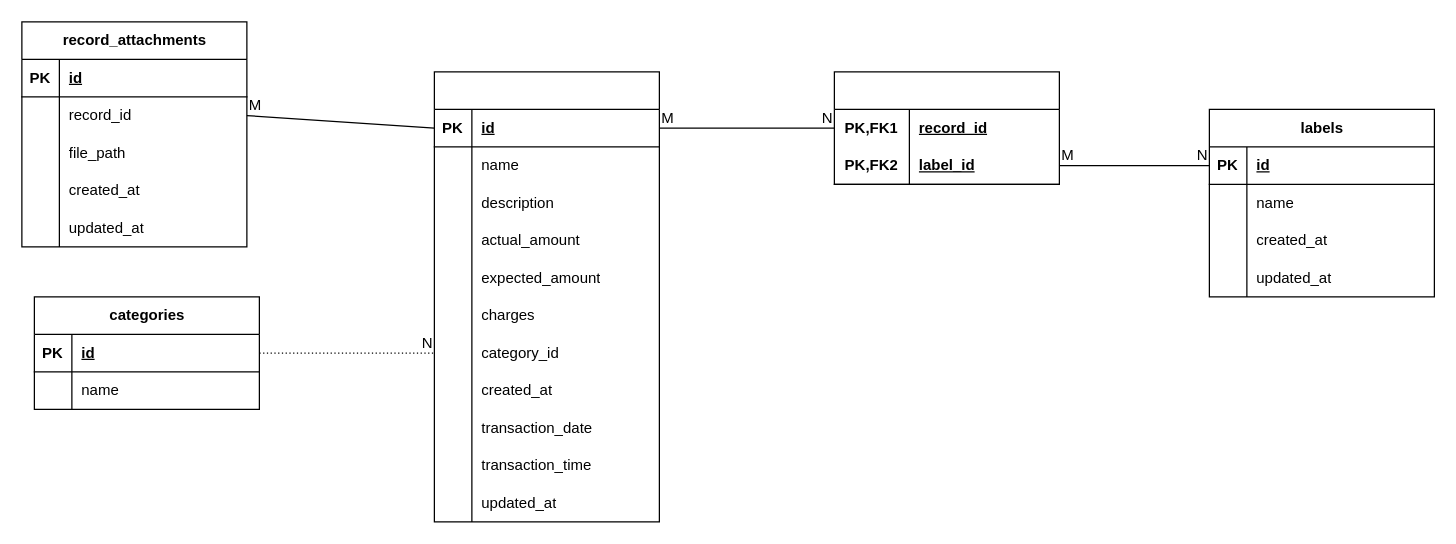
This 1456x544 diagram has some shape labels left out. Here are the shapes that lost their labels. From the top down, the box of each, then its label:
(833, 71, 1059, 184): record_labels
(433, 71, 659, 522): records
